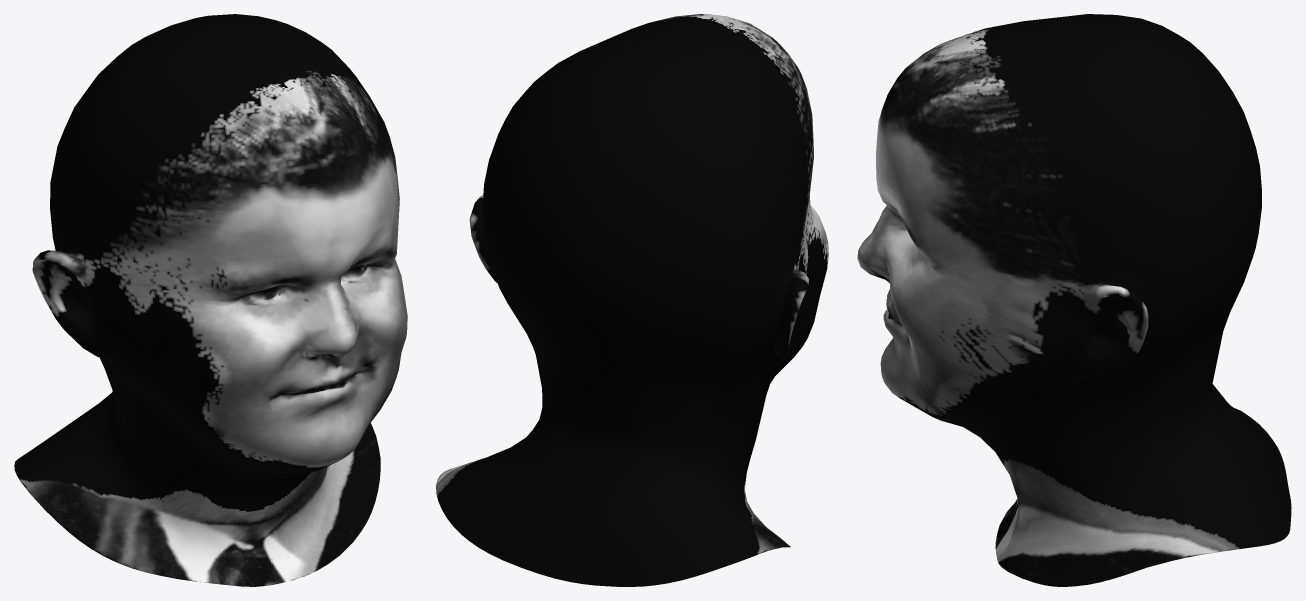
File: Jack_Lemmon.glb
3 renders of one model, left to right at view 1: azimuth 30°, elevation 25°; view 2: azimuth 150°, elevation 25°; view 3: azimuth 270°, elevation 25°, orthographic. The views are drawn at different scales.
Parts seen in each view (by area): view 1: FBHead.001; view 2: FBHead.001; view 3: FBHead.001.
Part boxes in pixels (<box>): FBHead.001: <box>14,14,407,586</box>; FBHead.001: <box>436,14,828,586</box>; FBHead.001: <box>857,14,1291,586</box>.
Size of the model in its own units: 1.59 by 2.28 by 1.73.
Materials: 1 (1 with a texture image).
